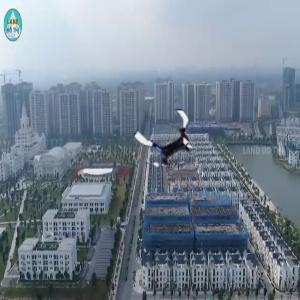drone: (138, 107, 202, 171)
